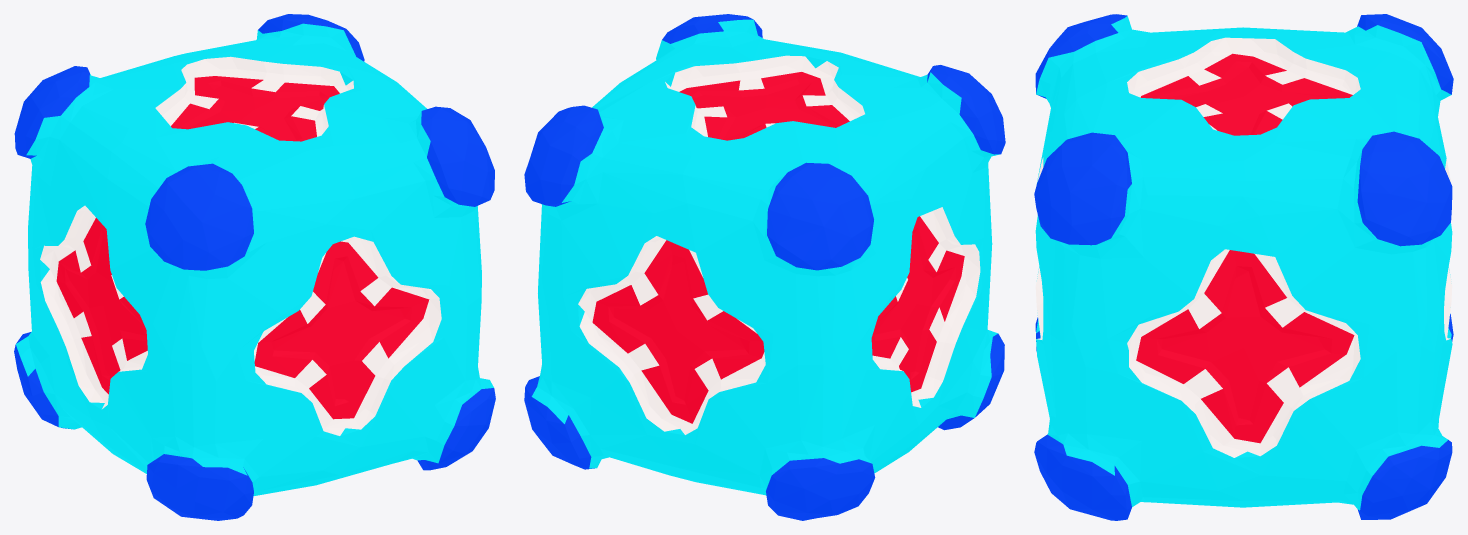
The model's file is extra_life.glb.
The picture shows the model from 3 angles, left to right: view 1: azimuth 30°, elevation 25°; view 2: azimuth 150°, elevation 25°; view 3: azimuth 270°, elevation 25°; orthographic projection. The views are drawn at different scales.
Parts seen in each view (by area): view 1: extra_life; view 2: extra_life; view 3: extra_life.
Part boxes in pixels (bbox=[...]): extra_life: bbox=[14, 14, 495, 520]; extra_life: bbox=[524, 14, 1005, 520]; extra_life: bbox=[1034, 14, 1453, 520].
Bounding box in the file's own units: 1.9 × 1.9 × 1.9.
